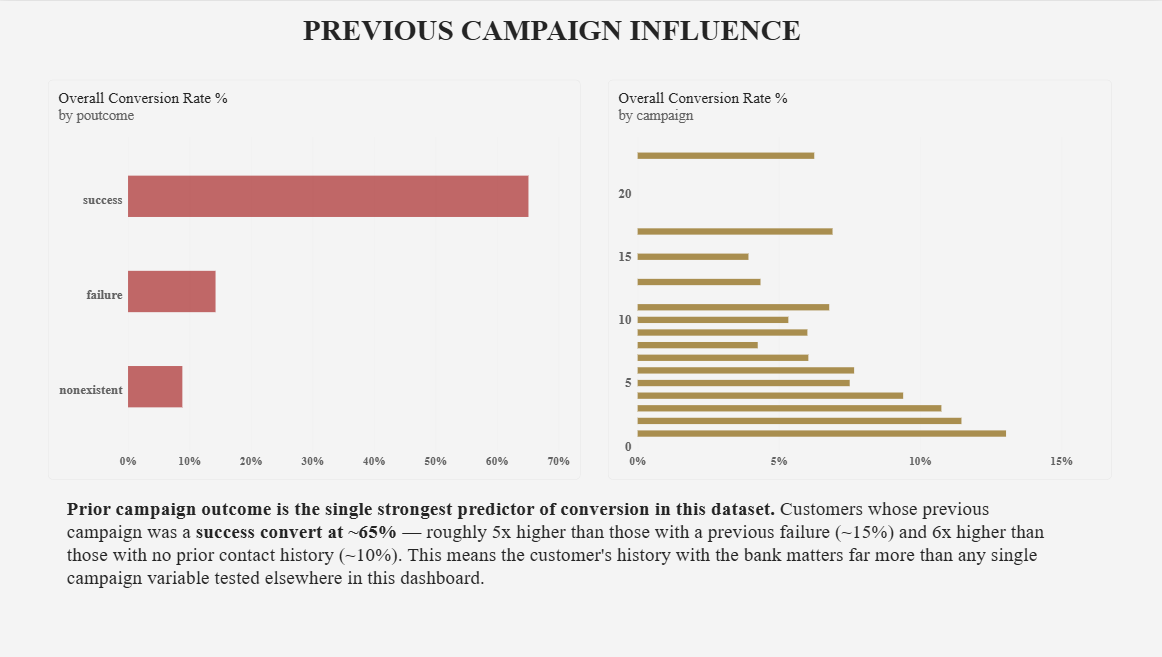

The page's visual inventory and layout, read from the dashboard file:
{"tool":"powerbi","page":{"name":"Previous Campaign Influence","canvas":[1920,1080],"ordinal":3},"visuals":[{"type":"textbox","box":[502.2,20.6,848,63.8],"z":0},{"type":"barChart","fields":{"Category":["cleaned_bank_marketing.poutcome"],"Y":["channel_summary.Overall Conversion Rate %"]},"box":[82.3,129.7,876.8,658.7],"z":1000},{"type":"barChart","fields":{"Category":["cleaned_bank_marketing.campaign"],"Y":["channel_summary.Overall Conversion Rate %"]},"box":[1004.5,129.7,829.5,658.7],"z":2000},{"type":"textbox","box":[113.2,817.2,1626.1,263.5],"z":3000}]}

Visuals, with their boxes in screenshot pixels (x1, y1, x2, y2), scaled from the page's 1920x1080 canvas onto the 1162x657 screenshot:
textbox: detection(304, 13, 817, 51)
barChart - cleaned_bank_marketing.poutcome x channel_summary.Overall Conversion Rate %: detection(50, 79, 580, 480)
barChart - cleaned_bank_marketing.campaign x channel_summary.Overall Conversion Rate %: detection(608, 79, 1110, 480)
textbox: detection(69, 497, 1053, 656)
